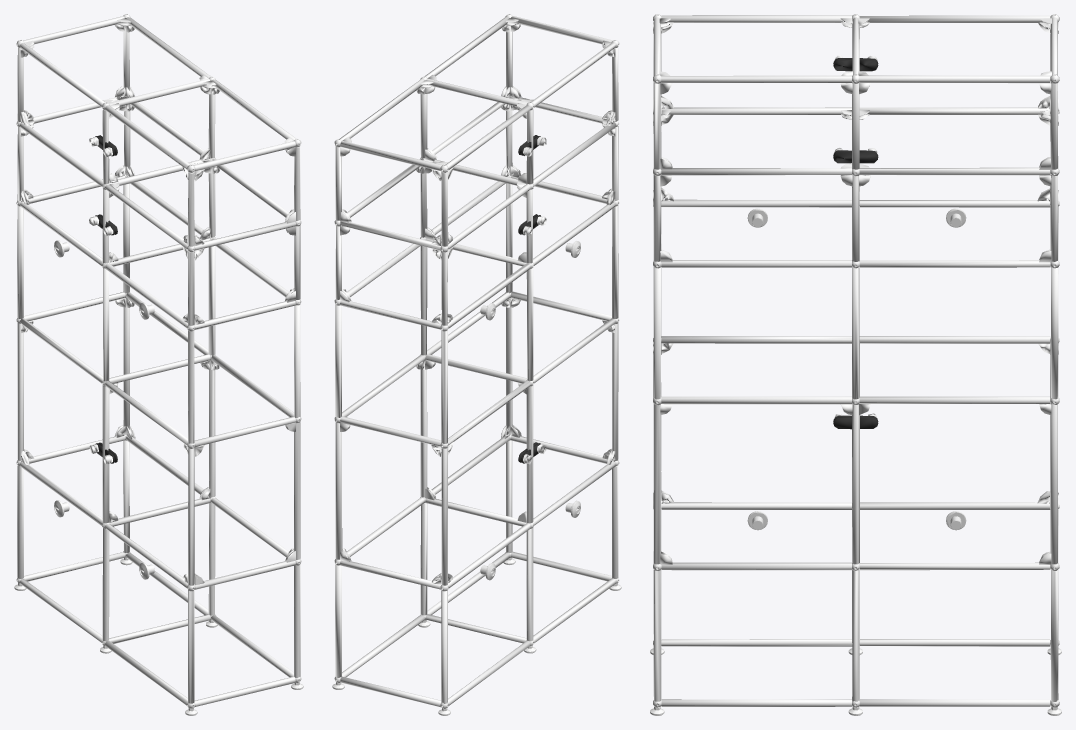
The picture shows the model from 3 angles, left to right: view 1: azimuth 30°, elevation 25°; view 2: azimuth 150°, elevation 25°; view 3: azimuth 270°, elevation 25°; orthographic projection. The views are drawn at different scales.
Visible parts, largest first — view 1: Barres métal.002, Poignée métal noir.002; view 2: Barres métal.002, Poignée métal noir.002; view 3: Barres métal.002, Poignée métal noir.002.
Boxes of the visible parts, x1,y1,x2,y2 form: Barres métal.002: [14, 14, 303, 715]; Poignée métal noir.002: [95, 135, 117, 463]; Barres métal.002: [332, 14, 621, 715]; Poignée métal noir.002: [518, 135, 540, 463]; Barres métal.002: [650, 14, 1061, 715]; Poignée métal noir.002: [833, 58, 878, 429].
Size of the model in its own units: 0.442 by 1.94 by 1.14.
2 materials, 2 textured.
